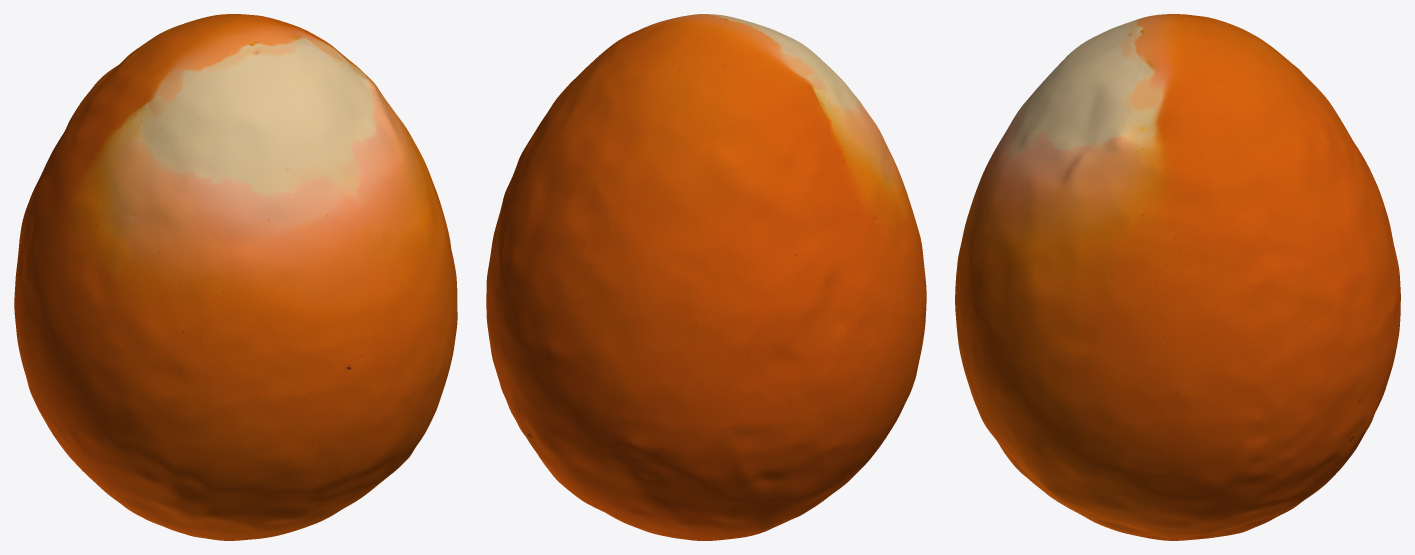
The picture shows the model from 3 angles, left to right: view 1: azimuth 30°, elevation 25°; view 2: azimuth 150°, elevation 25°; view 3: azimuth 270°, elevation 25°; orthographic projection.
Visible parts, largest first — view 1: tmp6zpm8zyp.ply; view 2: tmp6zpm8zyp.ply; view 3: tmp6zpm8zyp.ply.
Part boxes in pixels (bbox=[...]): tmp6zpm8zyp.ply: bbox=[14, 14, 457, 540]; tmp6zpm8zyp.ply: bbox=[486, 14, 926, 540]; tmp6zpm8zyp.ply: bbox=[955, 14, 1400, 540].
Bounding box in the file's own units: 159 × 196 × 160.
Materials: 1 (1 with a texture image).
